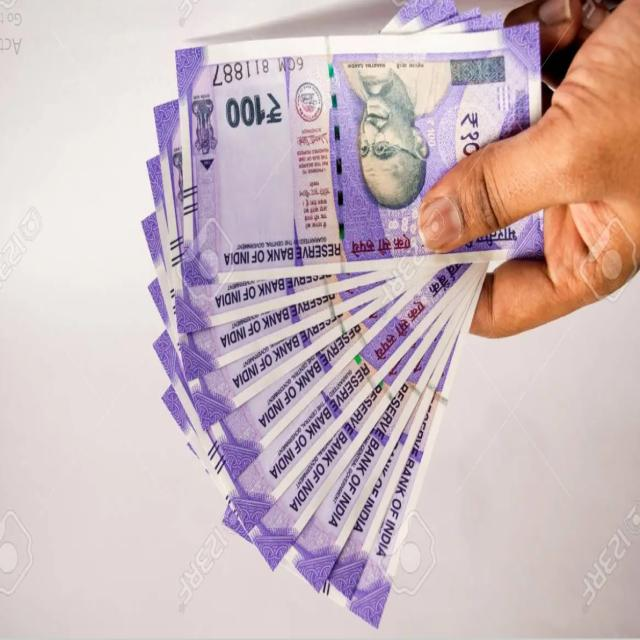100IndianRupees: (176, 35, 547, 266), (172, 50, 425, 264)
